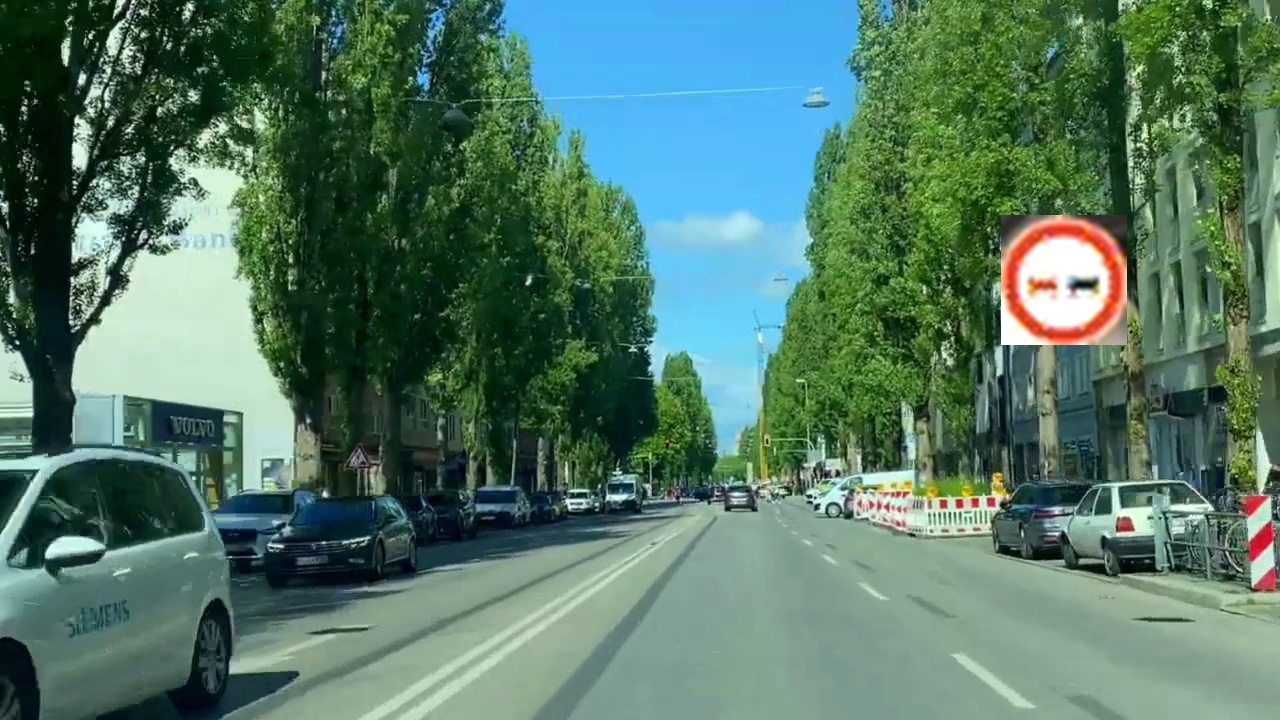No passing: (1001, 215, 1127, 345)
